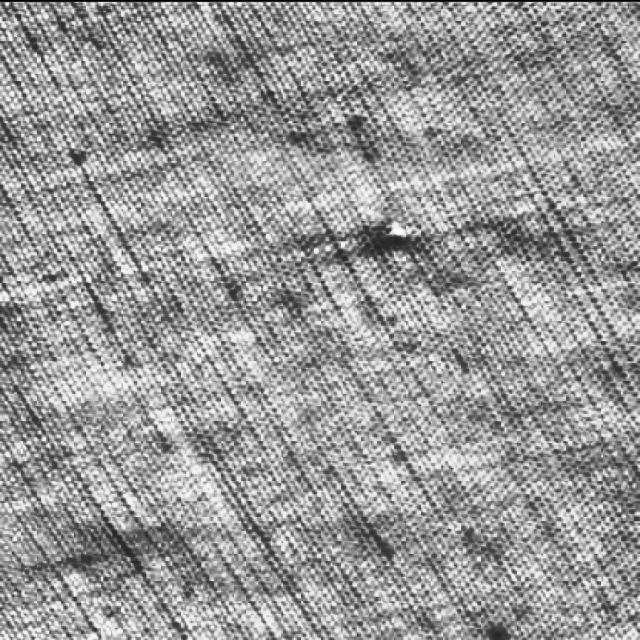hole: (378, 212, 416, 252)
